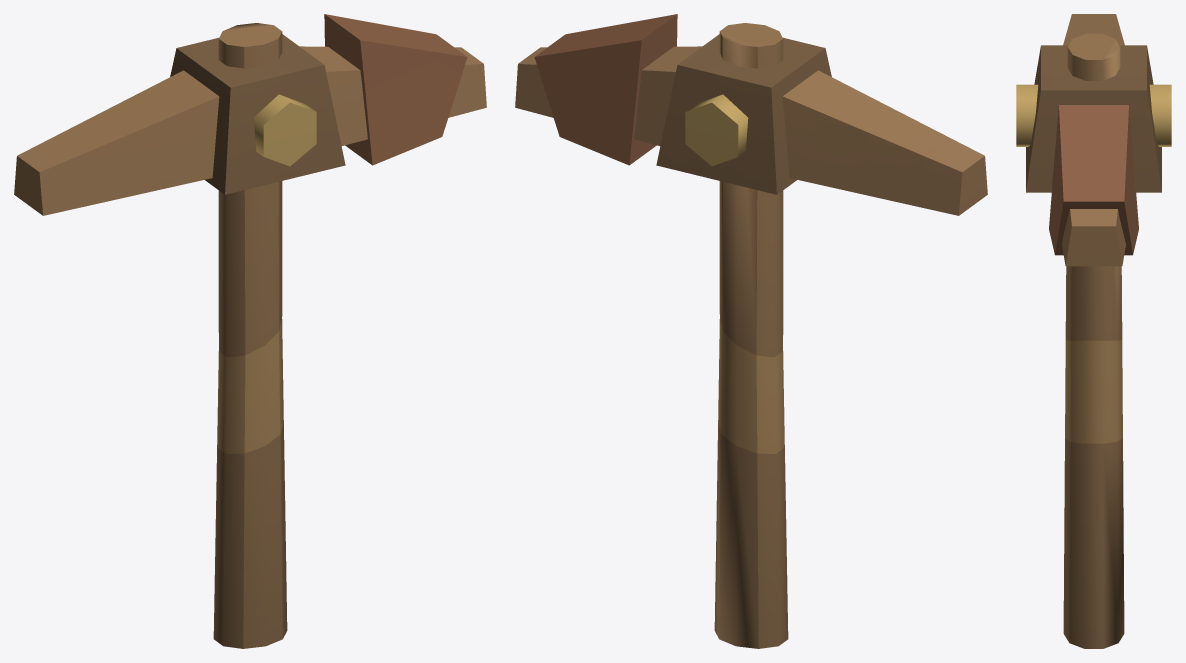
The model's file is 03_pickaxe_copper.fbx.
3 renders of one model, left to right at view 1: azimuth 30°, elevation 25°; view 2: azimuth 150°, elevation 25°; view 3: azimuth 270°, elevation 25°, orthographic. The views are drawn at different scales.
Visible parts, largest first — view 1: 03_pickaxe_copper; view 2: 03_pickaxe_copper; view 3: 03_pickaxe_copper.
Boxes of the visible parts, x1=… form: 03_pickaxe_copper: x1=14, y1=14, x2=486, y2=648; 03_pickaxe_copper: x1=515, y1=14, x2=987, y2=648; 03_pickaxe_copper: x1=1016, y1=14, x2=1171, y2=648.
Bounding box in the file's own units: 86.64 × 112 × 26.76.
